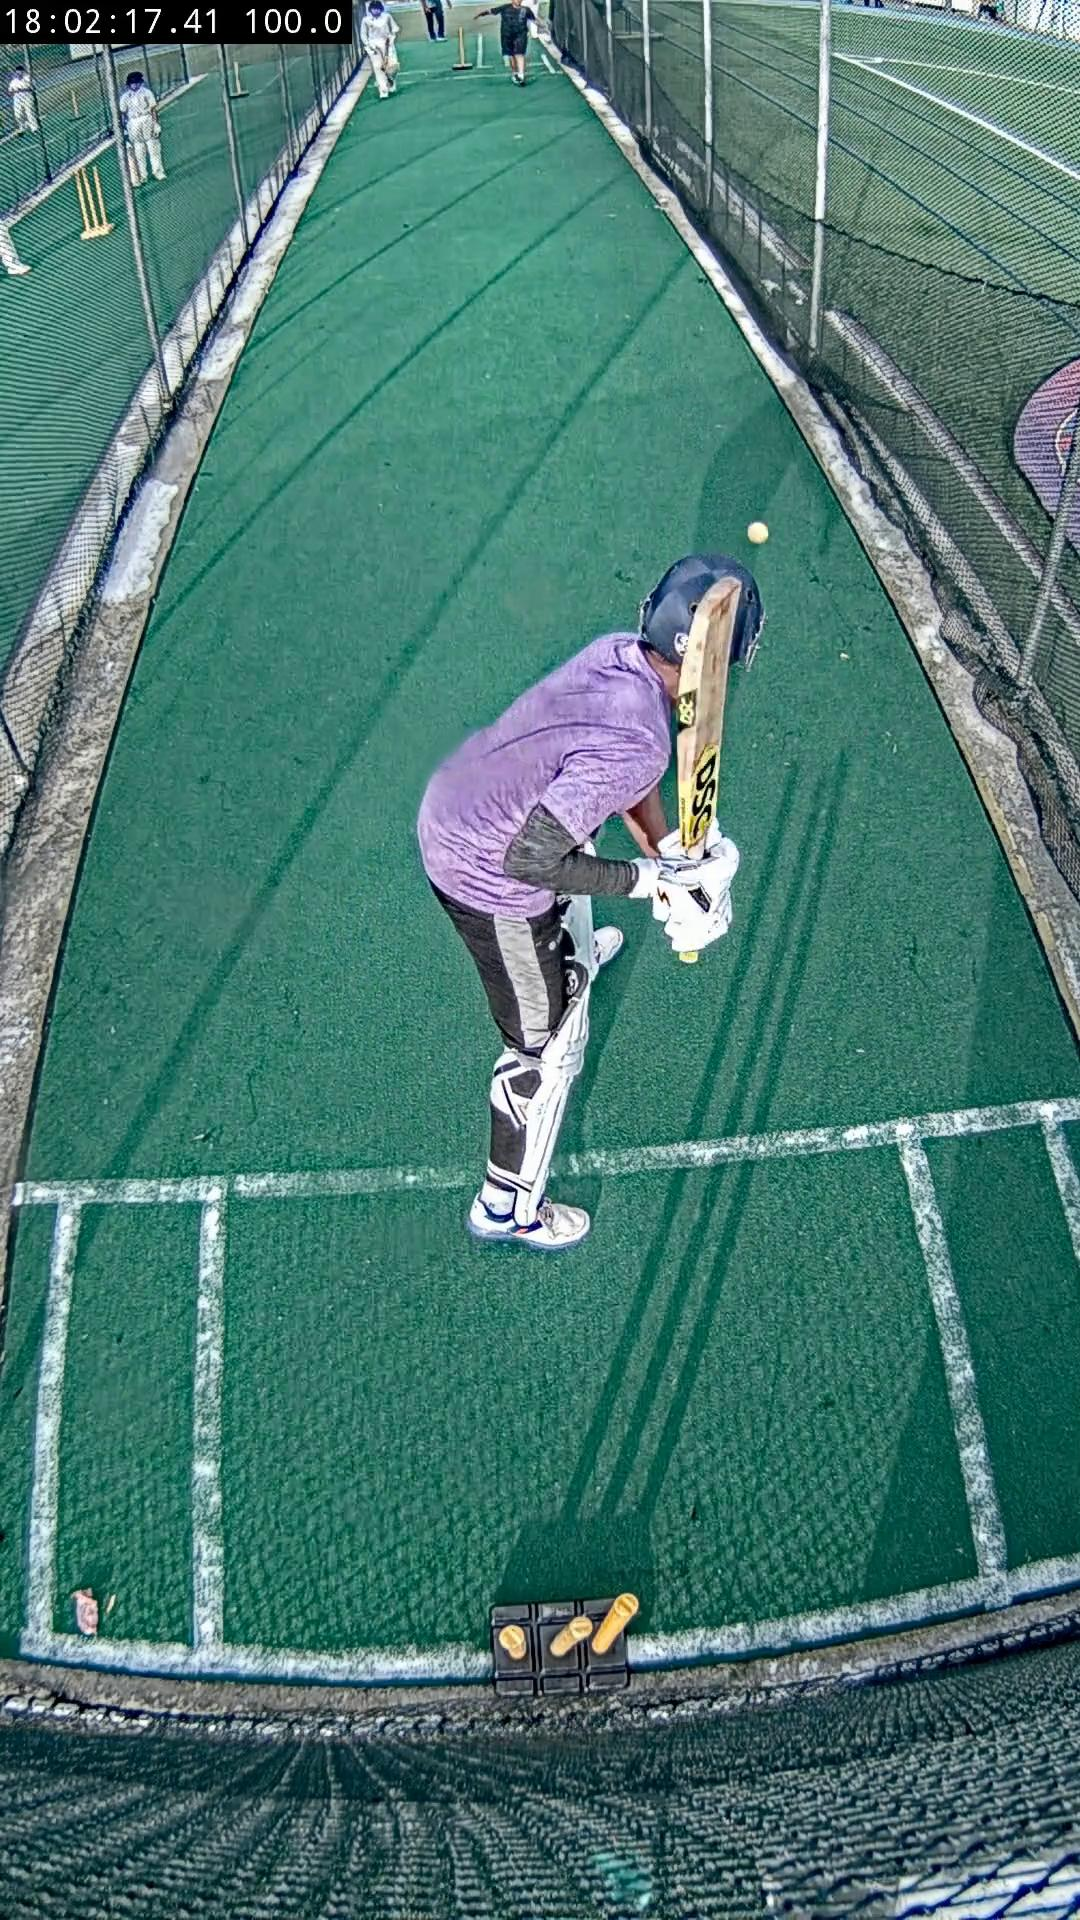ball: (746, 521, 769, 543)
bat: (675, 578, 742, 858)
gloves: (630, 825, 738, 952)
helmet: (637, 555, 765, 667)
pads: (514, 964, 588, 1224), (563, 897, 596, 972)
stumps: (492, 1594, 641, 1695)
